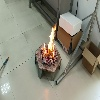fire: (43, 22, 57, 59)
